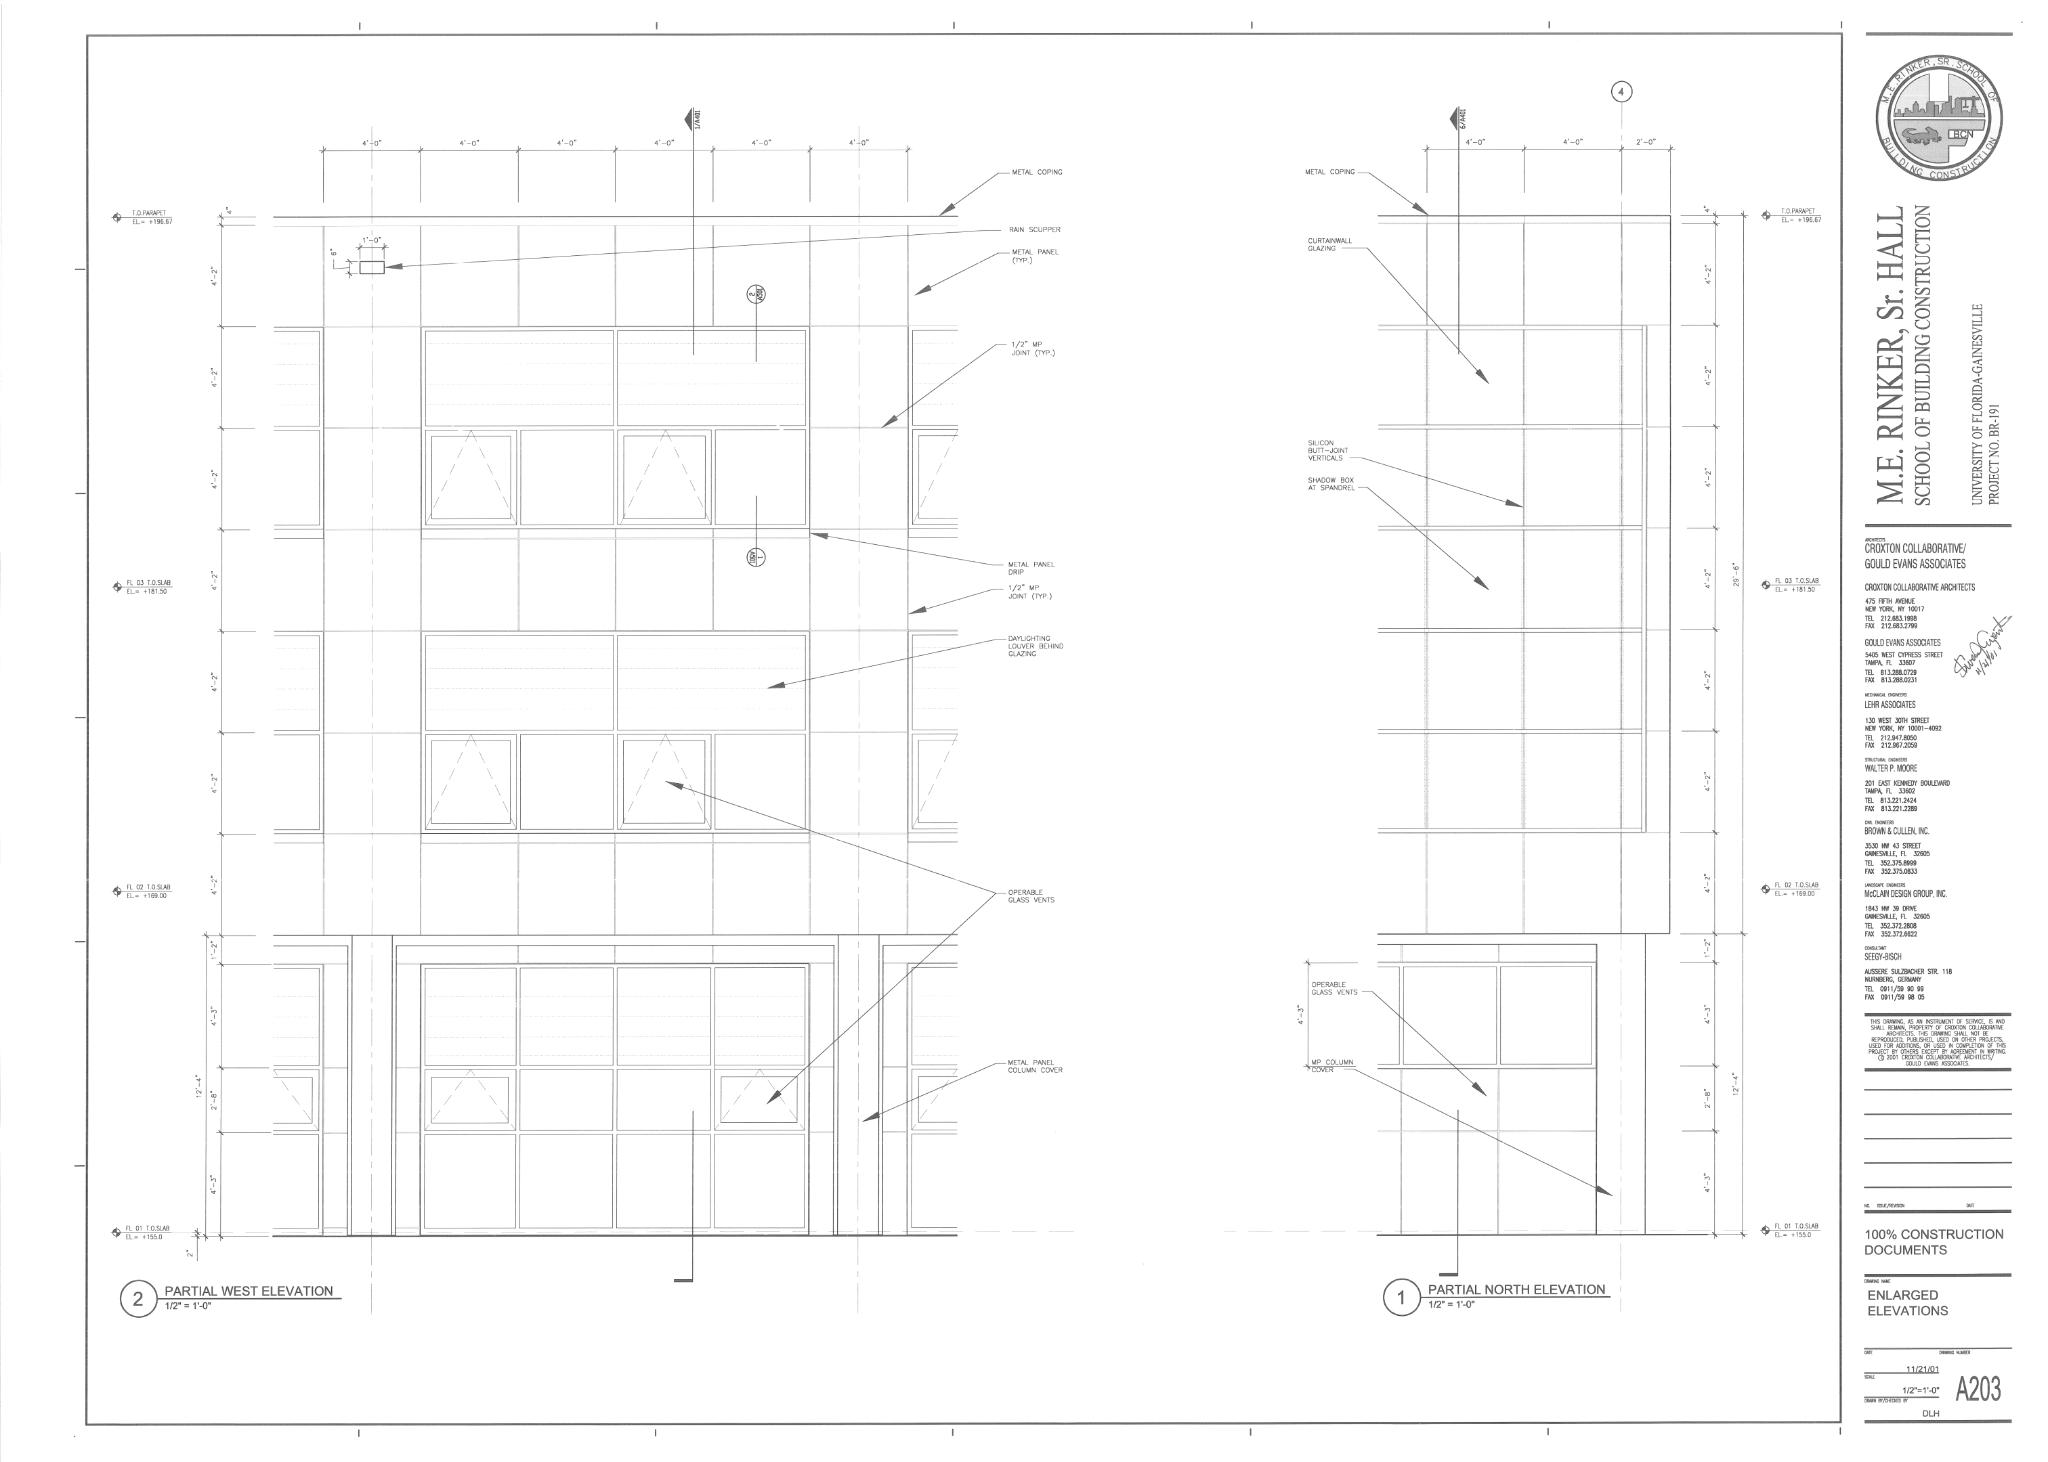detail: (746, 281, 766, 364), (746, 492, 766, 570)
elevation: (683, 106, 703, 357), (1449, 103, 1466, 357)
